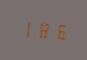eight: (35, 19, 50, 40)
one: (18, 18, 33, 39)
six: (51, 20, 66, 41)
